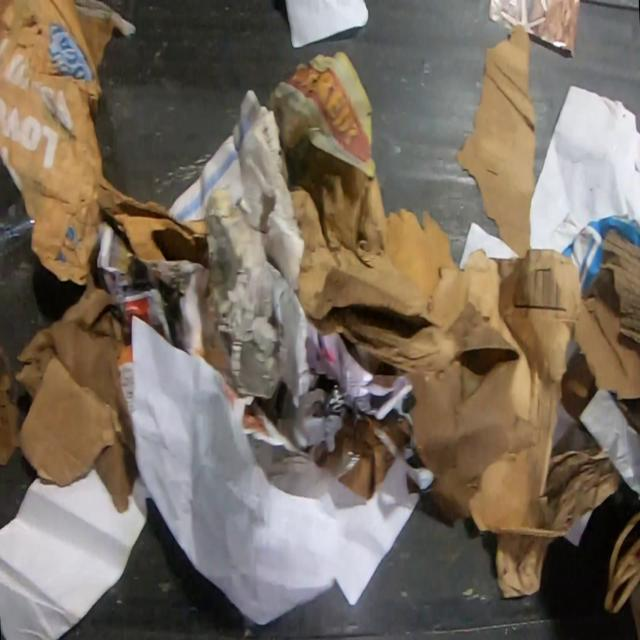cardboard: (287, 142, 582, 540), (560, 226, 640, 437), (19, 356, 123, 489), (101, 198, 211, 263), (334, 407, 409, 502), (386, 206, 459, 295), (561, 215, 640, 296), (602, 504, 640, 617)
rigid_plastic: (0, 189, 36, 264)
soft_plastic: (275, 436, 364, 500)
